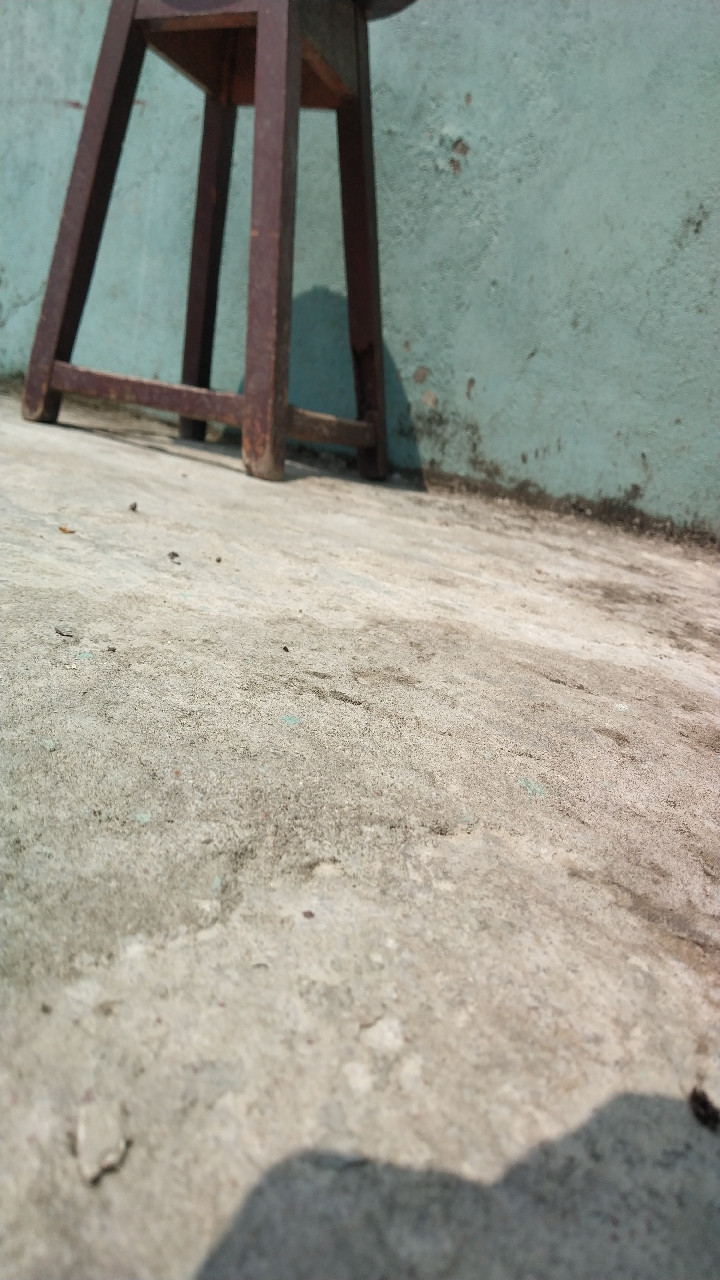Furnitures: (25, 54, 395, 498)
